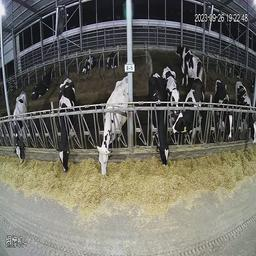cow: (98, 73, 129, 175), (146, 72, 168, 170), (172, 84, 205, 137), (58, 78, 76, 172), (214, 76, 233, 147), (175, 42, 203, 89), (12, 90, 29, 165), (237, 83, 253, 157), (163, 66, 179, 127), (32, 70, 54, 99), (105, 49, 120, 69), (83, 57, 95, 74)
